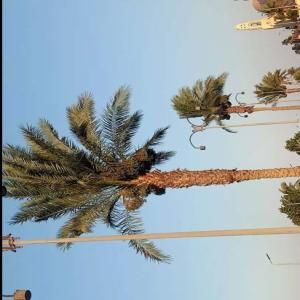palm tree: (1, 84, 299, 264)
